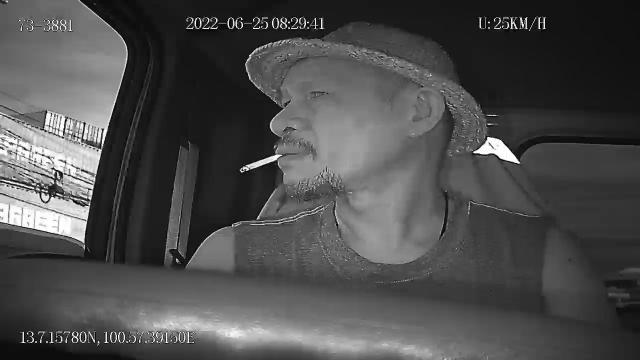Smoking: (240, 152, 284, 174)
